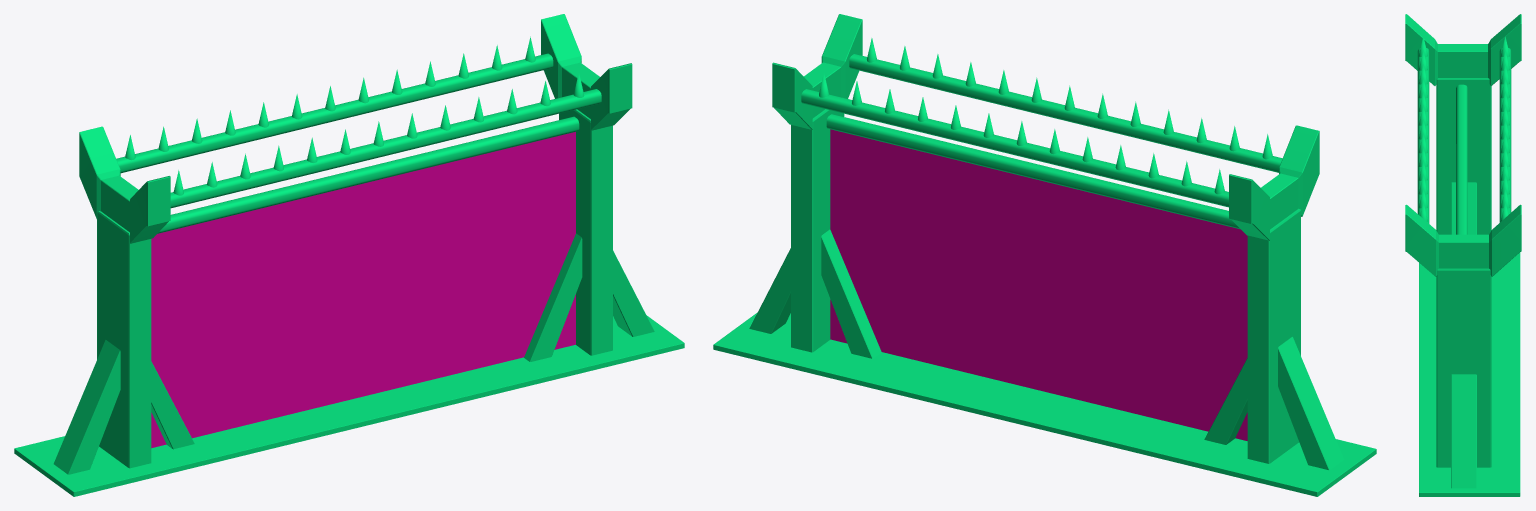
Rendered from Fence.fbx.
3 views of the same model, side by side, from view 1: azimuth 30°, elevation 25°; view 2: azimuth 150°, elevation 25°; view 3: azimuth 270°, elevation 25° (orthographic). The views are drawn at different scales.
Visible parts, largest first — view 1: SIngle_Fence, Metal_support; view 2: Metal_support, SIngle_Fence; view 3: Metal_support.
Boxes of the visible parts, <box> form: SIngle_Fence: <box>151,132,575,448</box>; Metal_support: <box>14,14,684,496</box>; Metal_support: <box>713,14,1376,496</box>; SIngle_Fence: <box>830,129,1247,440</box>; Metal_support: <box>1405,14,1521,496</box>.
Bounding box in the file's own units: 868 × 418 × 170.
